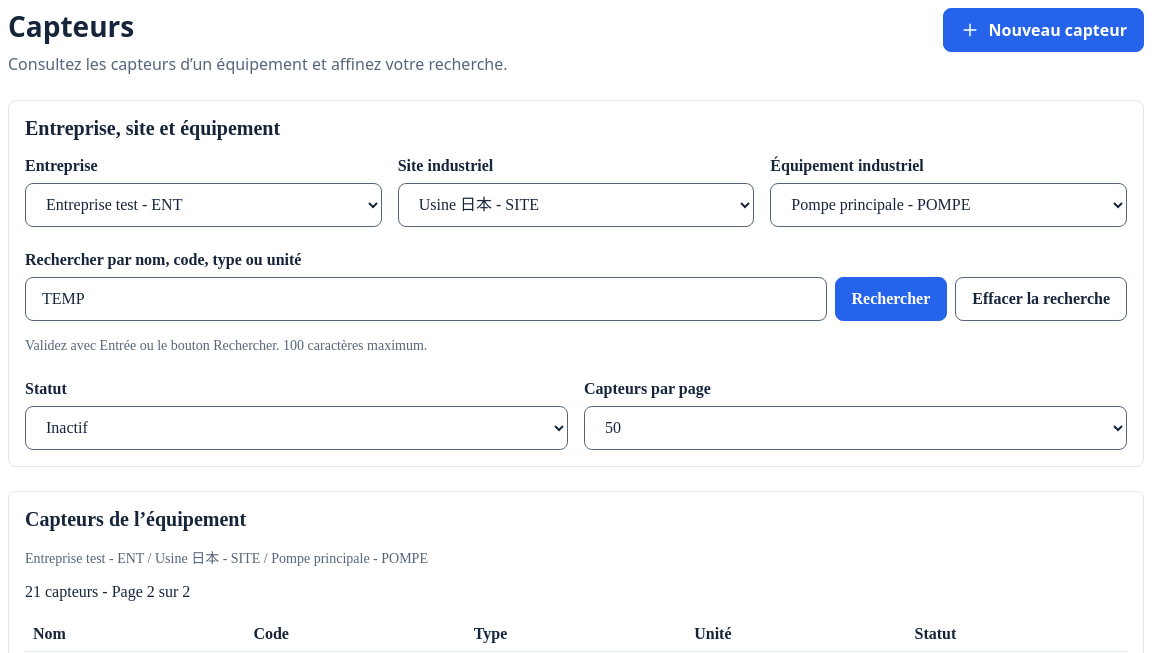
Test: Sensors list, references and URL integration › separates verified prefill from the complete return snapshot and navigates once
Step 1. Click the link with class "new-sensor" → click(1044, 30), box x1=944 y1=8 x2=1144 y2=52
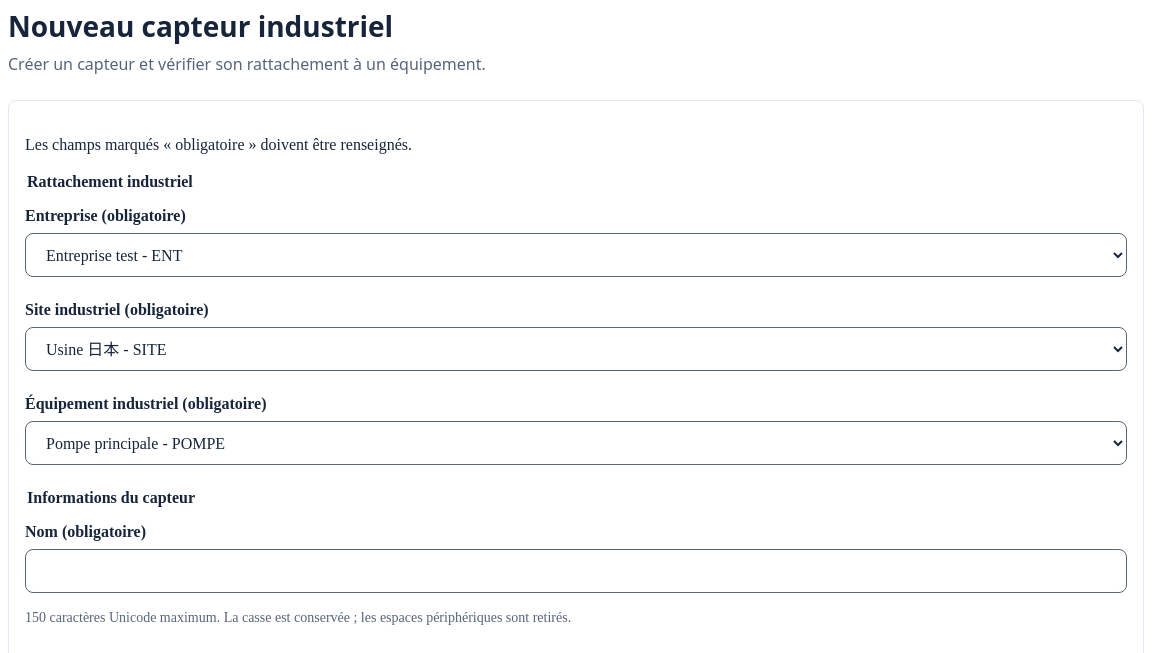
Result: the heading "Nouveau capteur industriel" is shown at x1=8 y1=7 x2=393 y2=45
